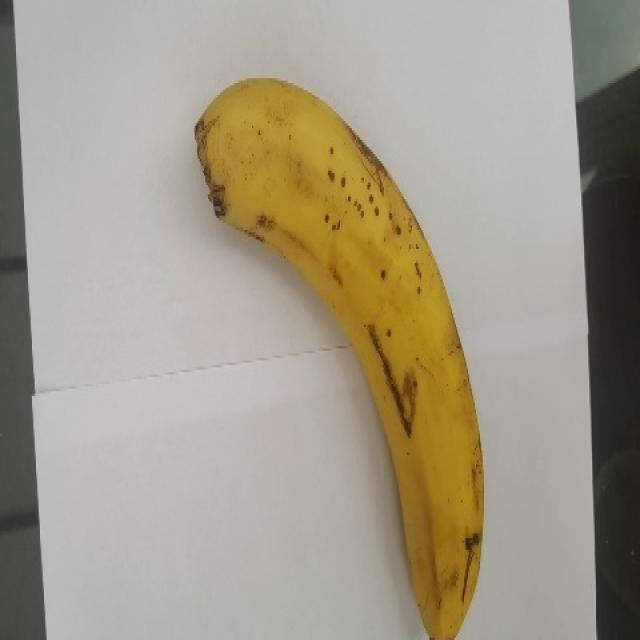Banana: (193, 75, 485, 639)
